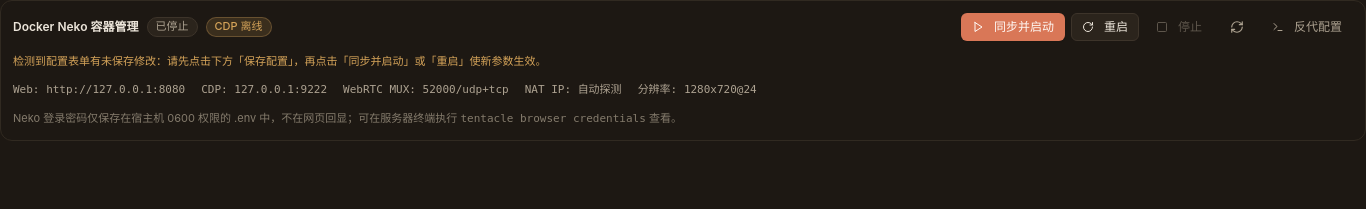
Test: BrowserNekoControl › starts and stops Neko from plugin card and reveals reverse proxy config
Expected: the text "已停止" is shown, [146,17,198,37]
Expected: the text "检测到配置表单有未保存修改：请先点击下方「保存配置」，再点击「同步并启动」或「重启」使新参数生效。" is shown, [13,54,546,68]
Click the button "同步并启动".
click(1013, 27)  # box [961,13,1065,41]
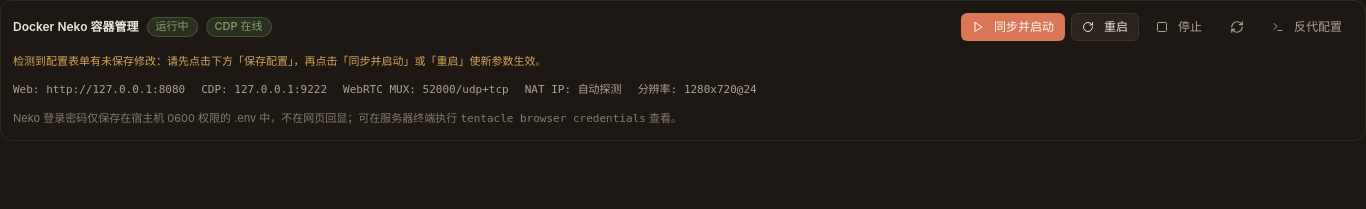
Expected: the text "运行中" is shown, [146,17,198,37]
Expected: the text "CDP 在线" is shown, [206,17,272,37]
Click the button "反代配置".
click(1307, 27)  # box [1261,13,1353,41]
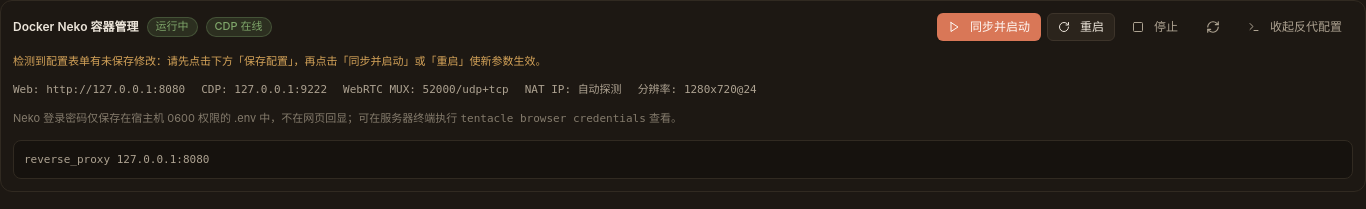
Expected: the text "reverse_proxy 127.0.0.1:8080" is shown, [13,140,1353,179]
Click the button "停止".
click(1155, 27)  # box [1121,13,1189,41]
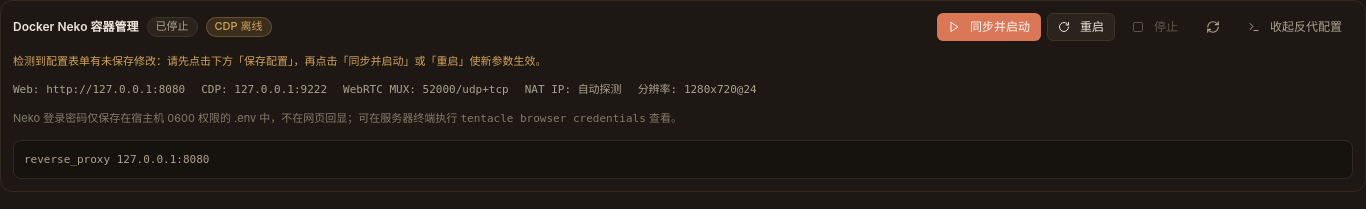
Expected: the text "已停止" is shown, [146,17,198,37]
